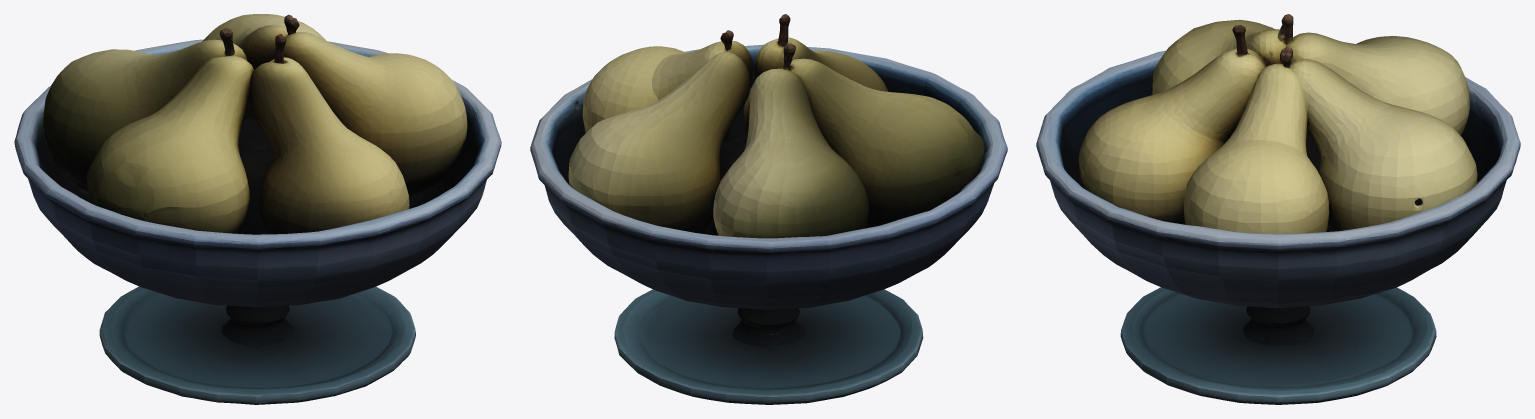
Rendered from edit.glb.
The picture shows the model from 3 angles, left to right: view 1: azimuth 30°, elevation 25°; view 2: azimuth 150°, elevation 25°; view 3: azimuth 270°, elevation 25°; orthographic projection. The views are drawn at different scales.
Parts seen in each view (by area): view 1: world; view 2: world; view 3: world.
Boxes of the visible parts, x1,y1,x2,y2 form: world: (14,14,501,404); world: (530,14,1007,404); world: (1036,14,1520,404).
Size of the model in its own units: 1 by 0.7222 by 0.9992.
1 material, 1 textured.
